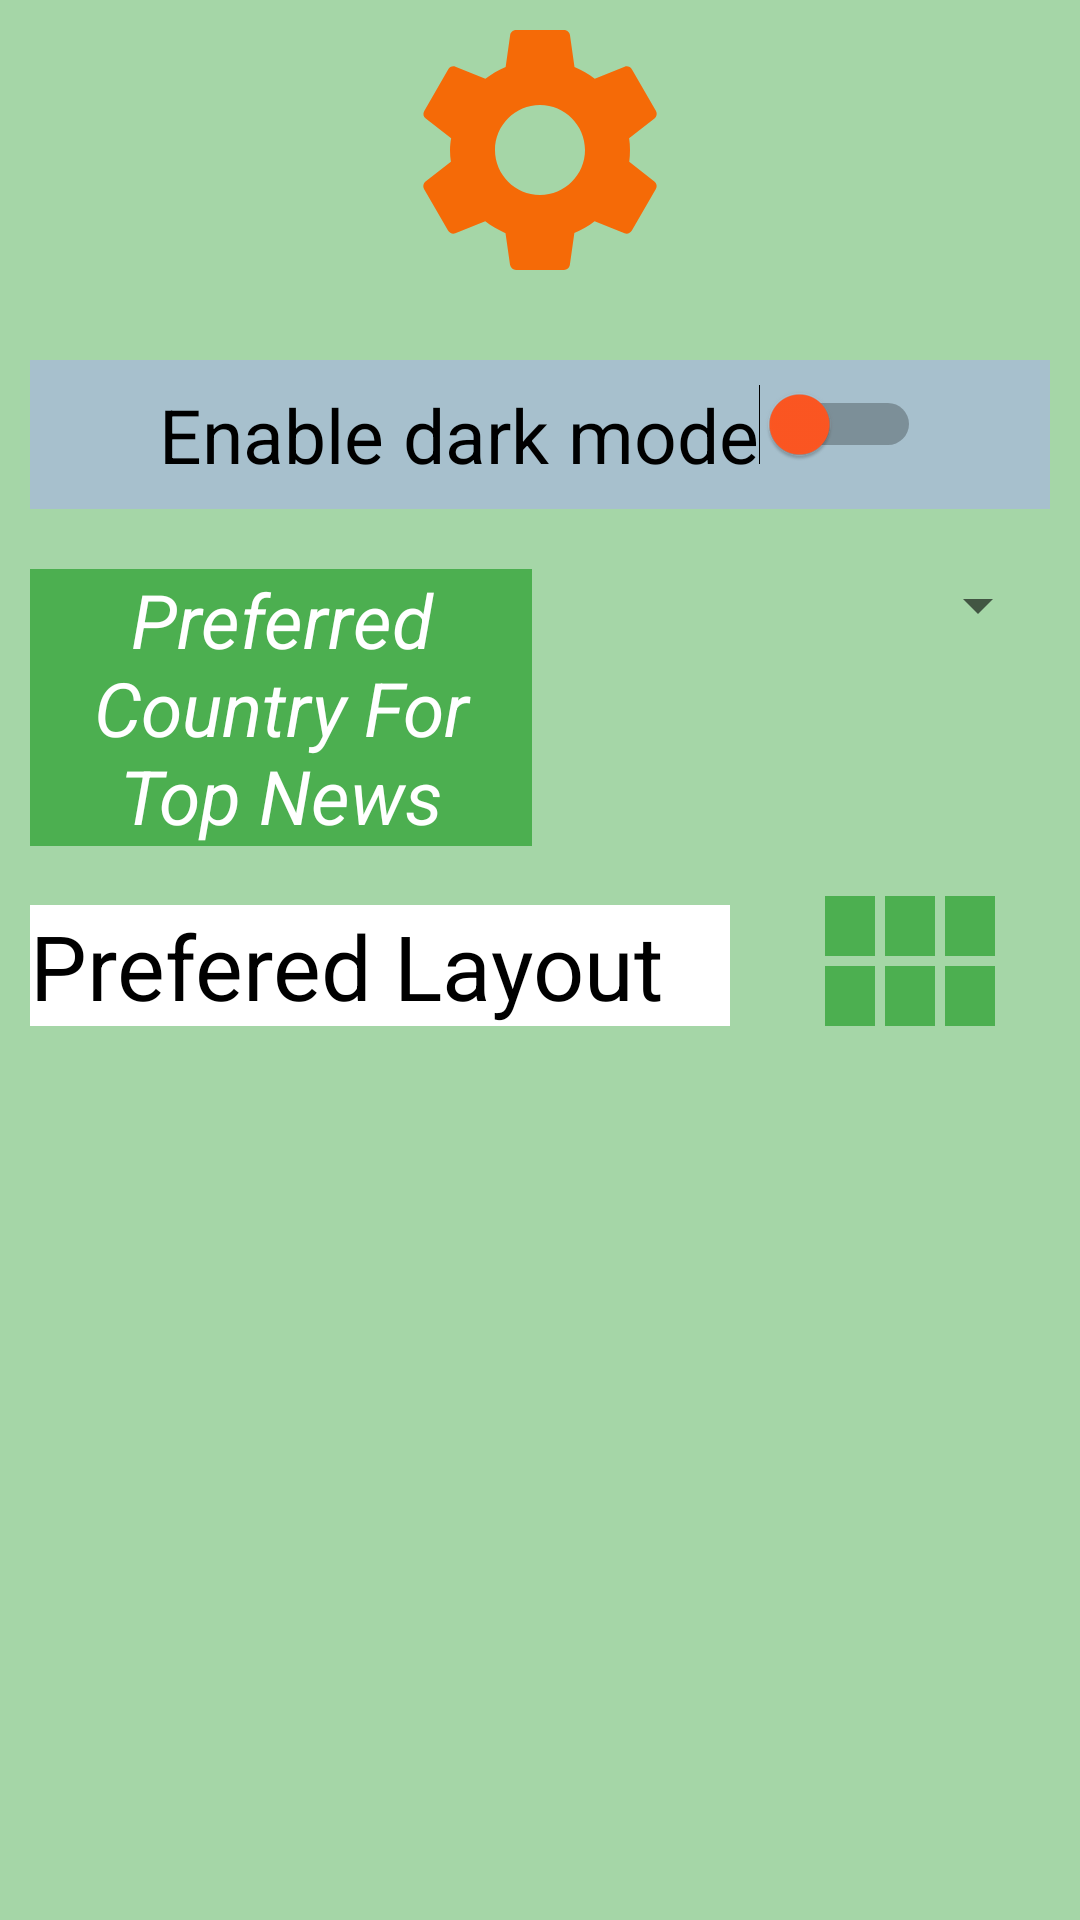

Where to tap for icons on this 1080×1920 app screen, as (x,y):
grid layout: (910,961)
settings: (540,150)
